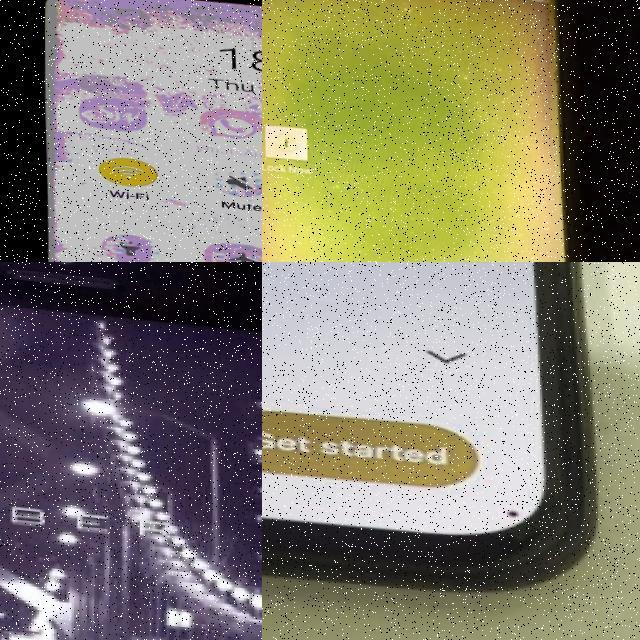dead pixel: (457, 466, 570, 543)
